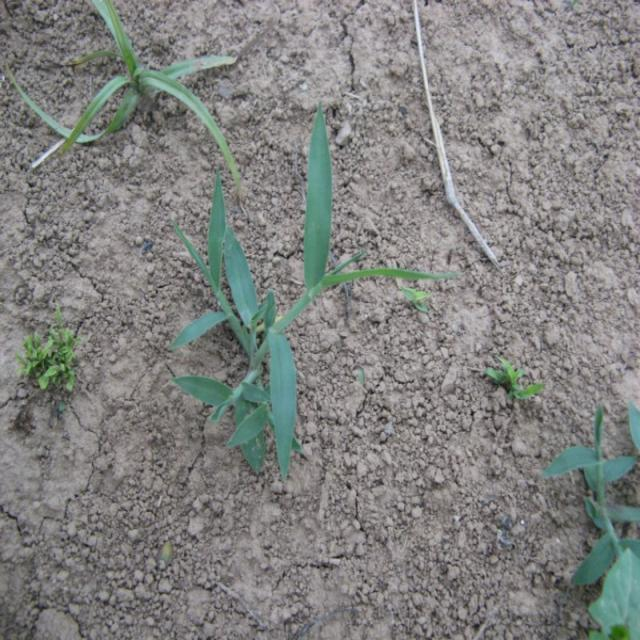bg: (158, 98, 445, 486)
